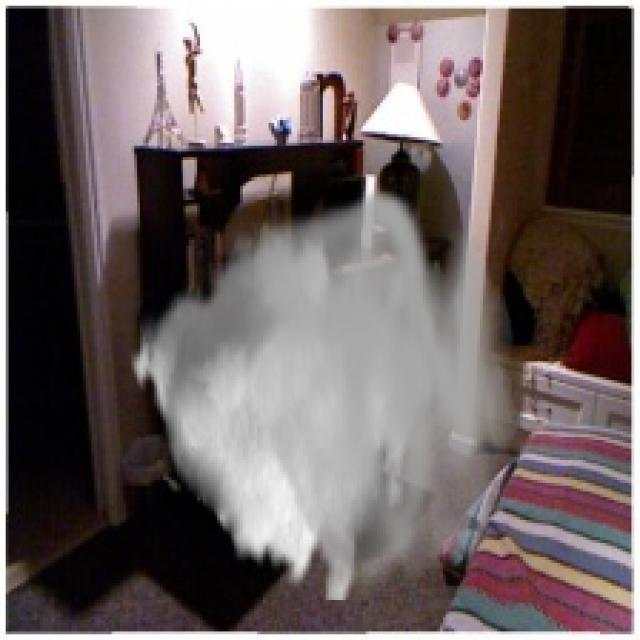Smoke: (128, 183, 518, 600)
